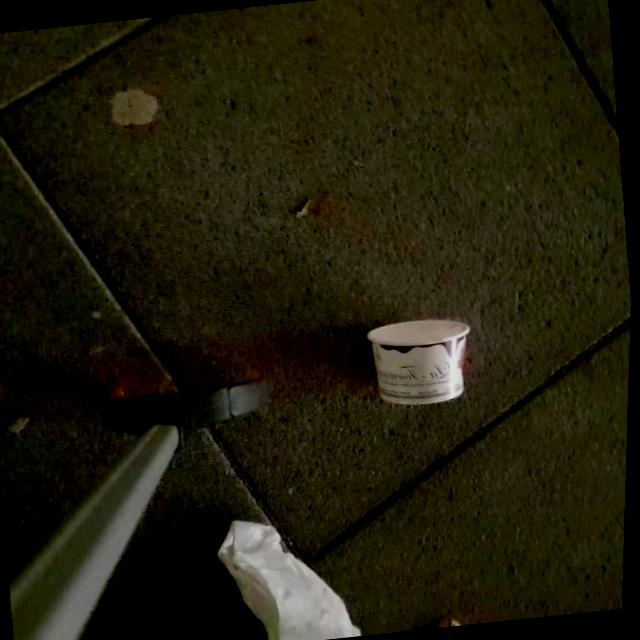Paper: (214, 505, 372, 640), (363, 312, 483, 411)
